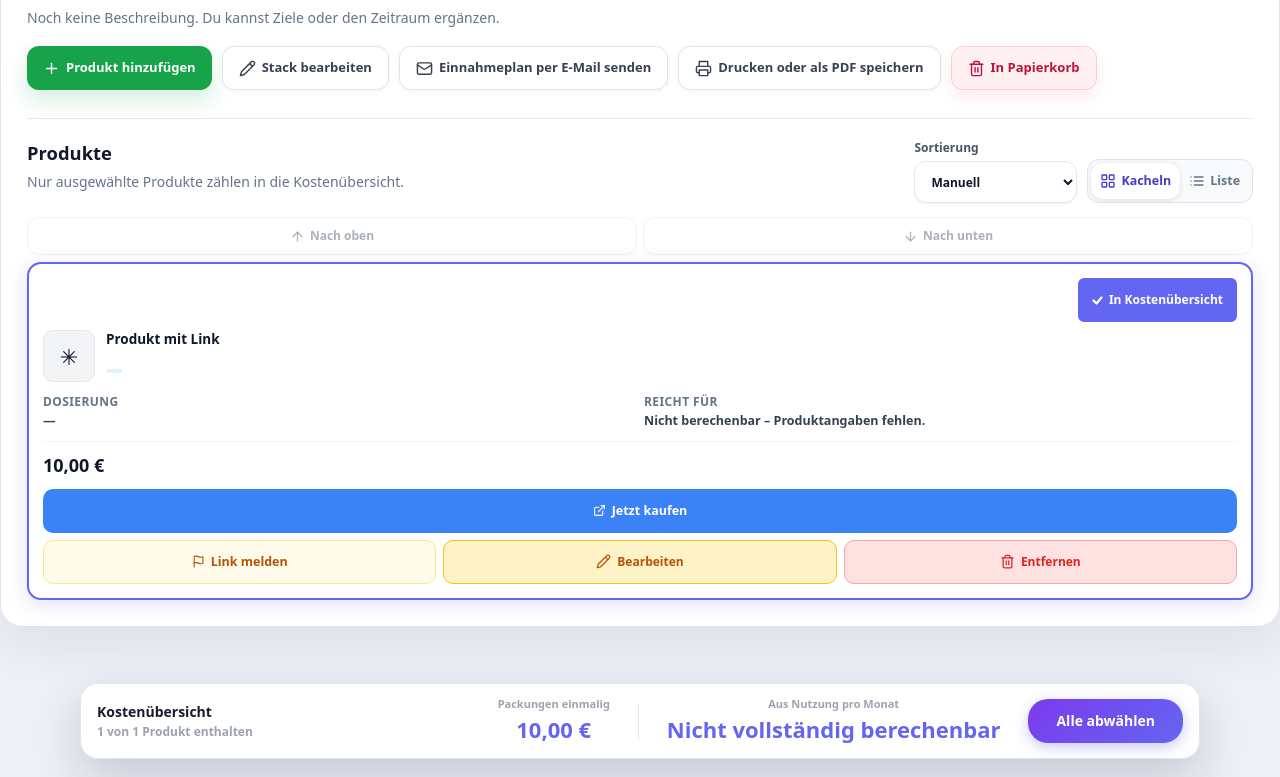
Test: StackWorkspace dosage guideline helpers › shows a failed link report, offers retry and confirms the successful retry
(page scrolled)
Click the button with aria-label "Fehlenden oder defekten Link melden: Produkt mit Link" at (240, 562), box [43,540,436,584]
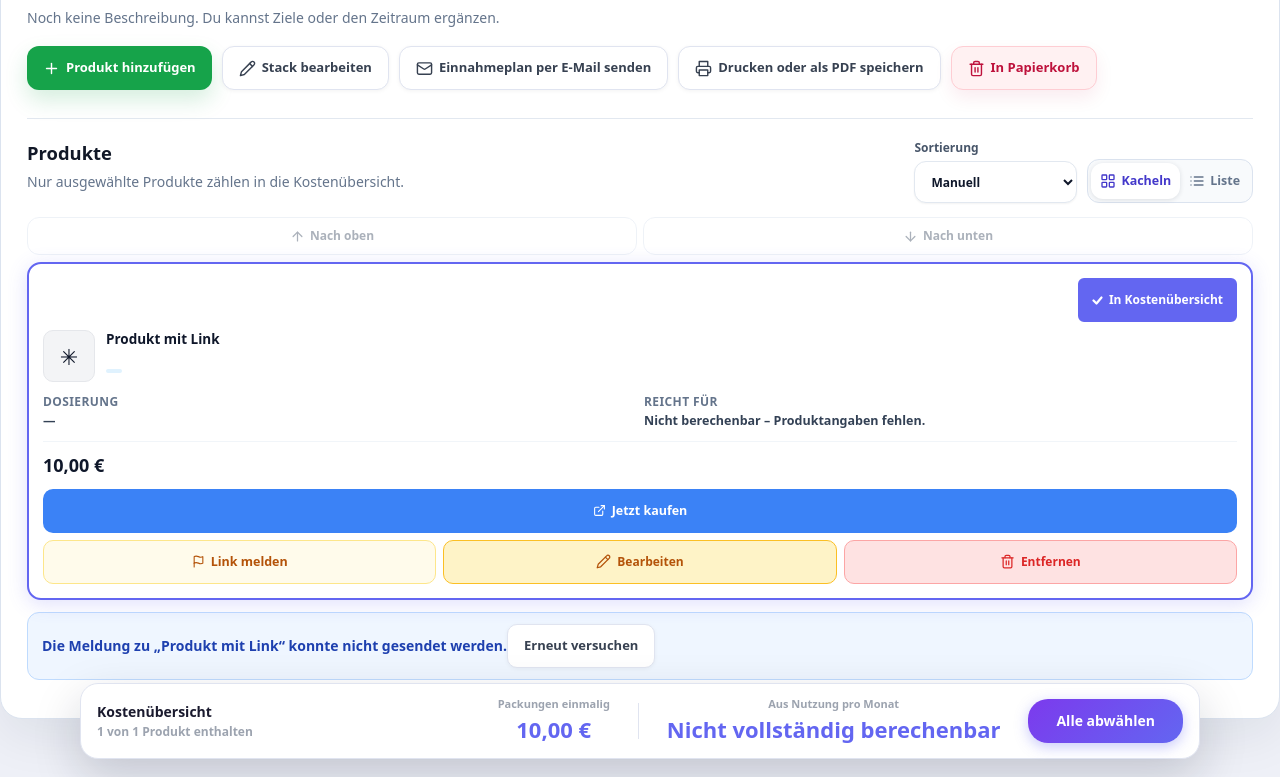
Result: the text "konnte nicht gesendet werden" is shown at [42,636,507,654]
Click the button "Erneut versuchen" at (581, 646), box [507,624,655,668]
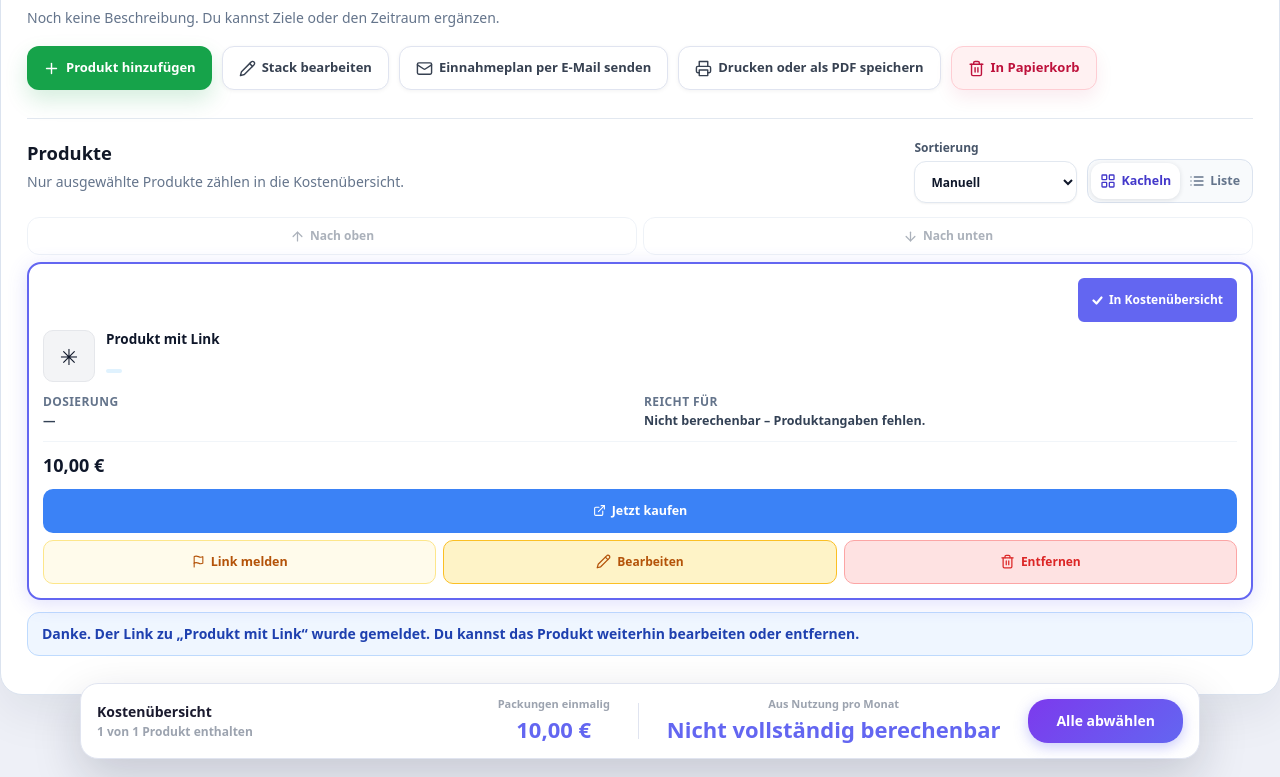
Result: the text "Danke. Der Link zu „Produkt mit Link“ wurde gemeldet" is shown at [42,624,859,643]
